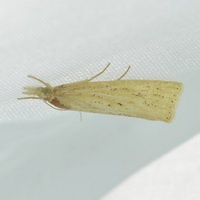insect: (18, 63, 182, 121)
